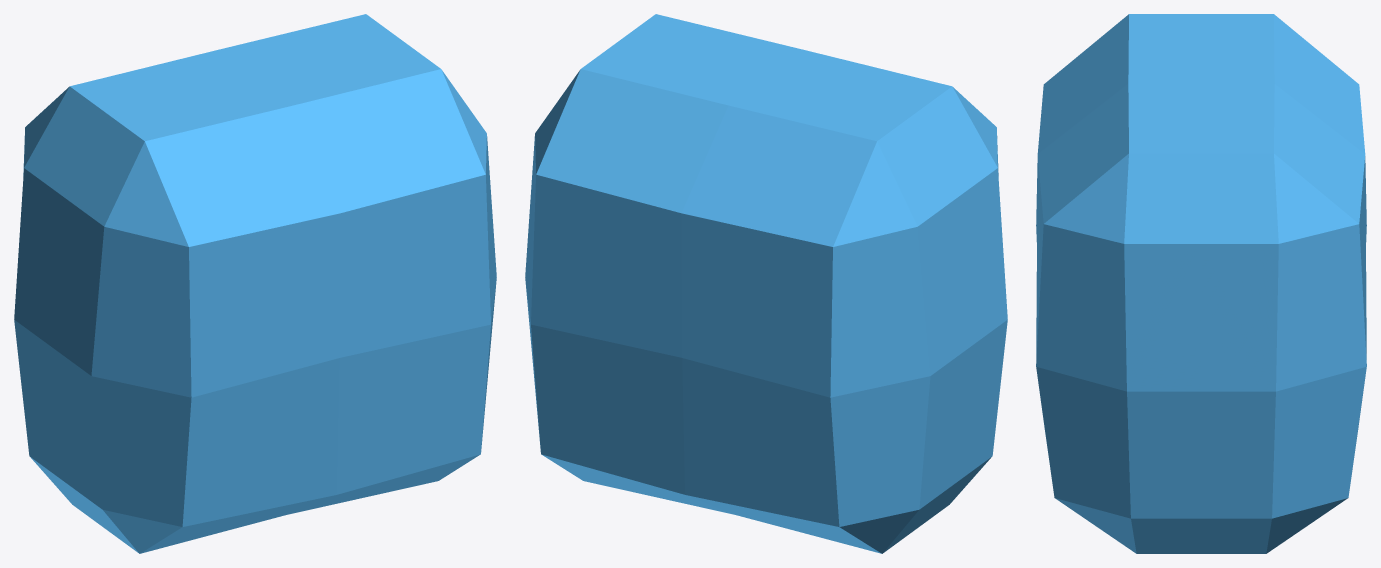
Rendered from GemmeWazoFini2.fbx.
The picture shows the model from 3 angles, left to right: view 1: azimuth 30°, elevation 25°; view 2: azimuth 150°, elevation 25°; view 3: azimuth 270°, elevation 25°; orthographic projection. The views are drawn at different scales.
Parts seen in each view (by area): view 1: Cube.001; view 2: Cube.001; view 3: Cube.001.
Boxes of the visible parts, x1,y1,x2,y2 form: Cube.001: (14, 14, 496, 553); Cube.001: (525, 14, 1007, 553); Cube.001: (1036, 14, 1366, 553).
Size of the model in its own units: 5.42 by 5.31 by 3.98.
